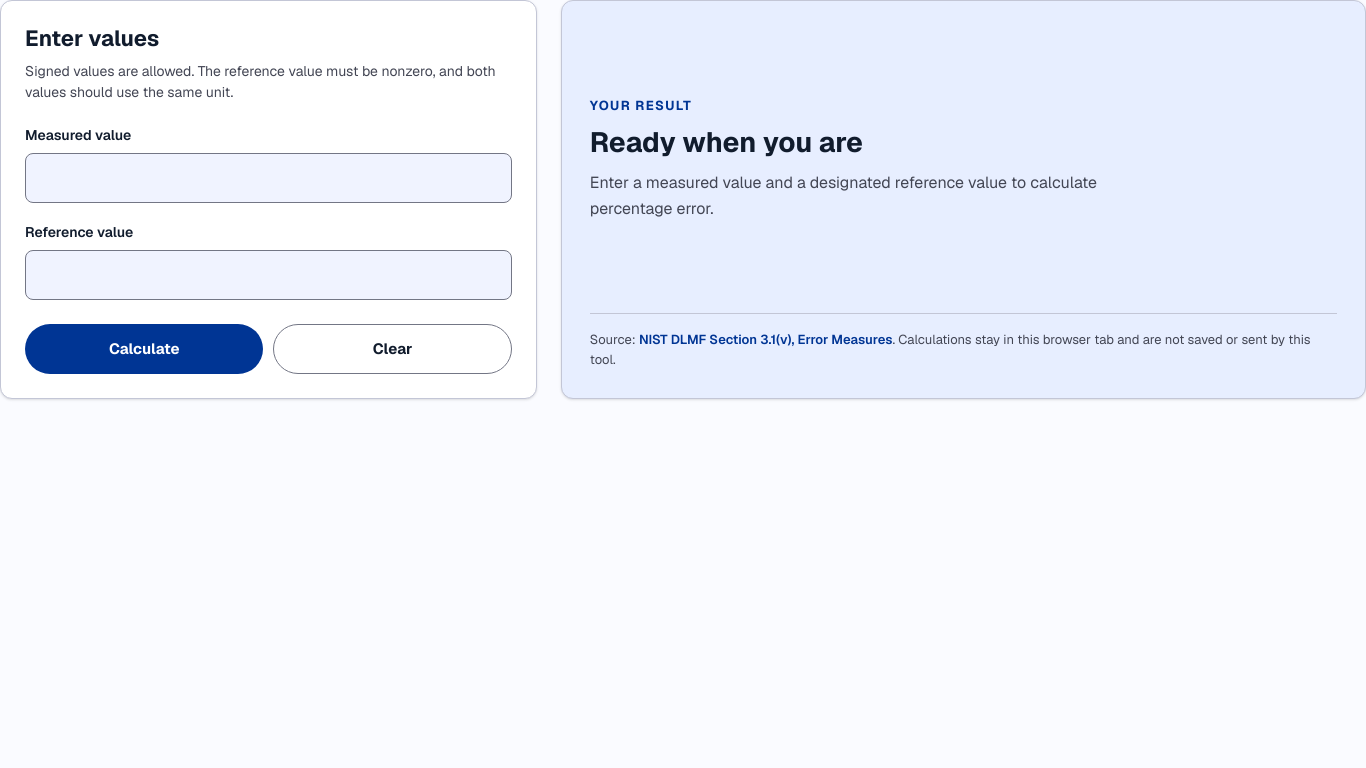
percentage family shared workspace › accepts signed Error inputs and rejects its zero reference
This screenshot has width=1366, height=768.
Type "-95" into the number field labelled "Measured value".
click(268, 178); type("-95")  # box [25,153,512,203]
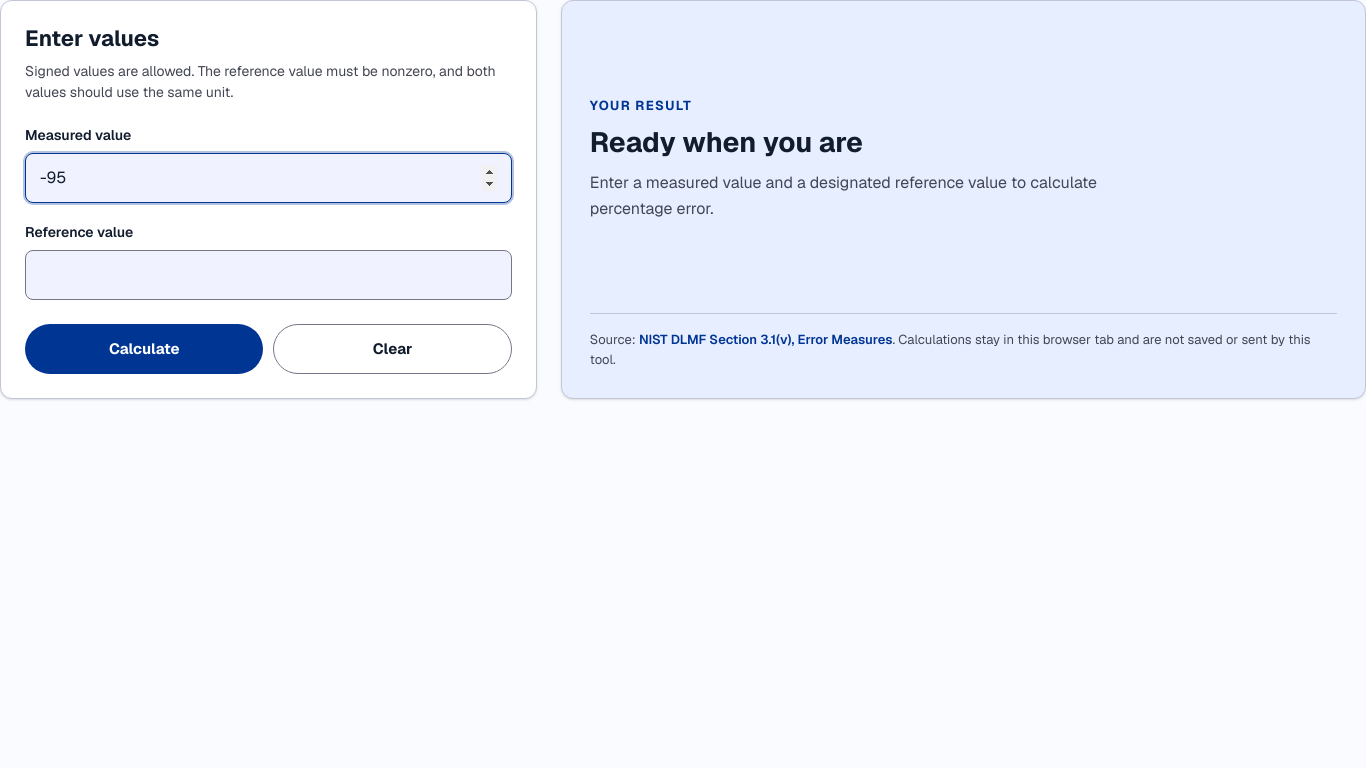
Type "-100" into the number field labelled "Reference value".
click(268, 275); type("-100")  # box [25,250,512,300]
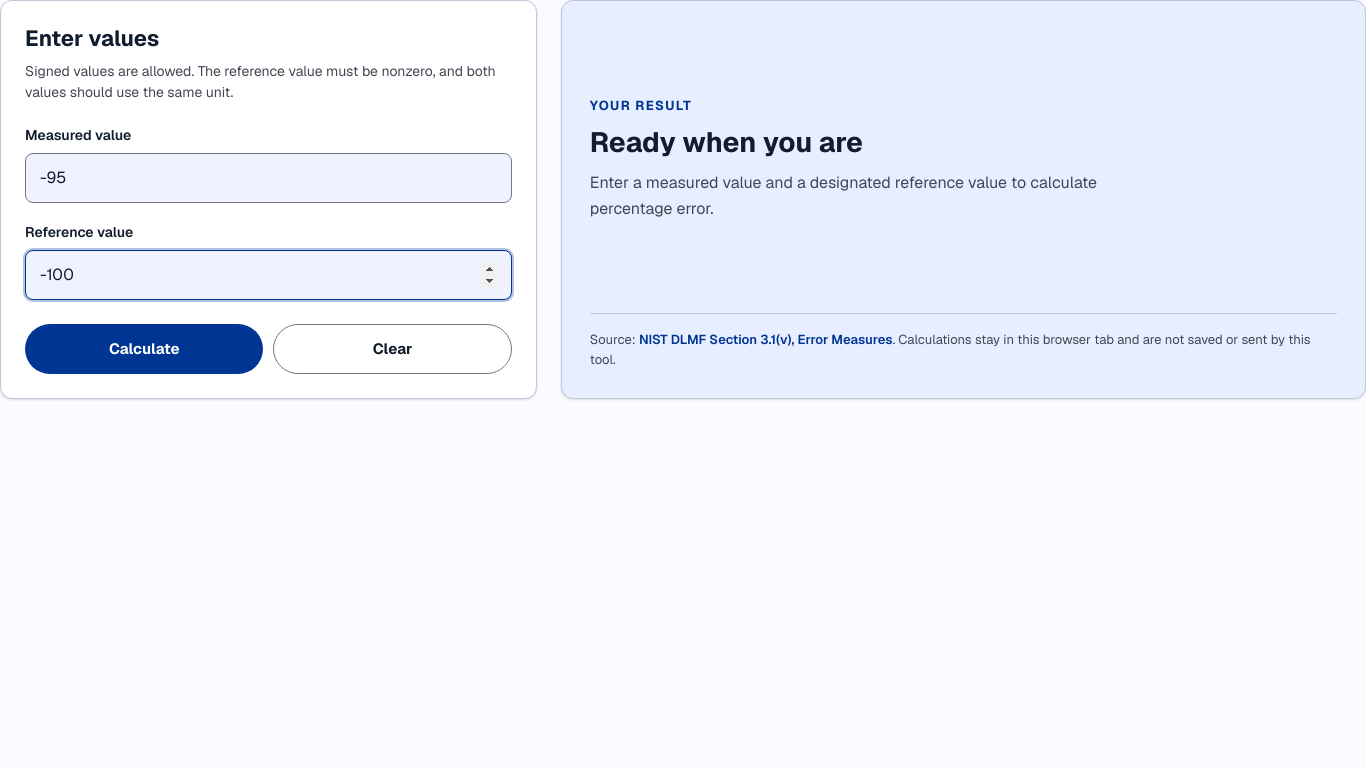
Click the button "Calculate".
click(144, 349)  # box [25,324,263,374]
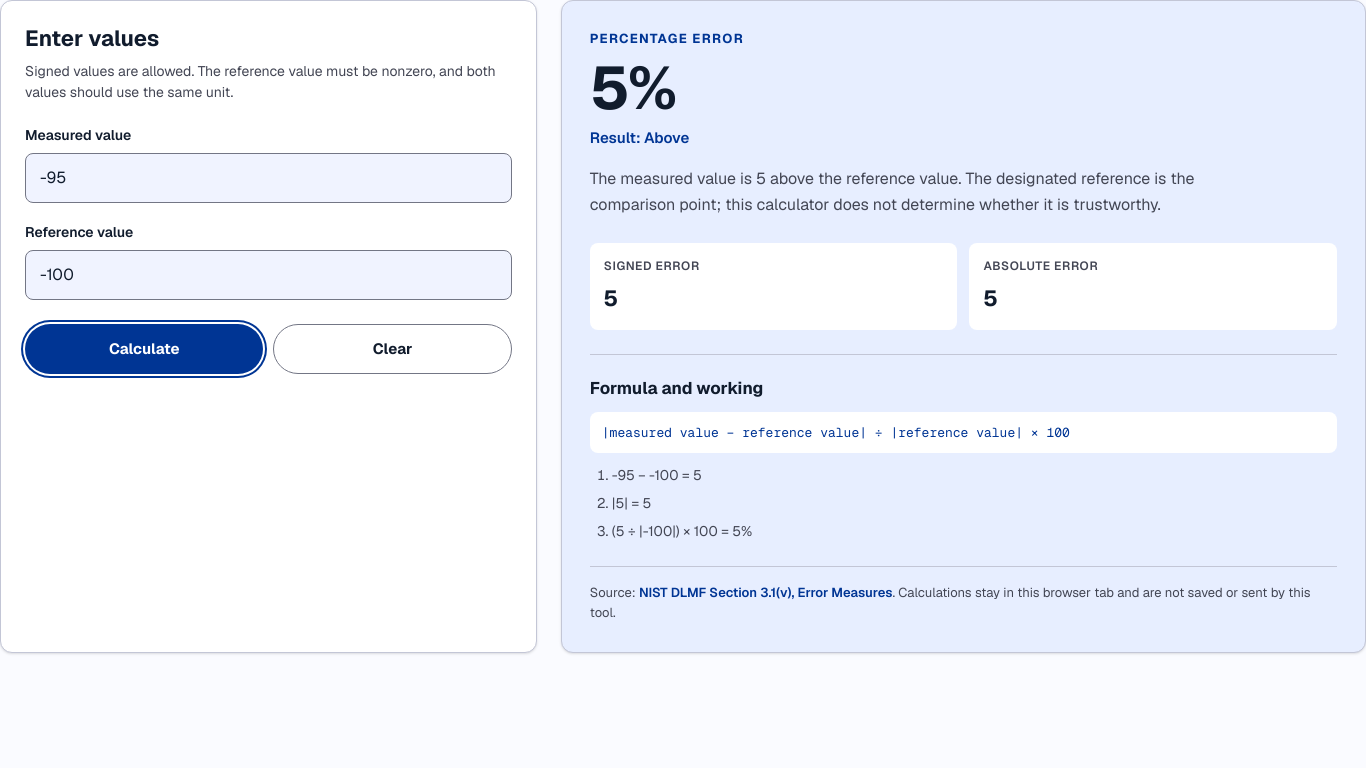
Result: the heading "5%" is shown at [590,49,675,127]
Result: the text "measured value is 5 above" is shown at [590,168,1194,215]
Replace the text in the number field labelled "Reference value" with "0" at (268, 275), box [25,250,512,300]
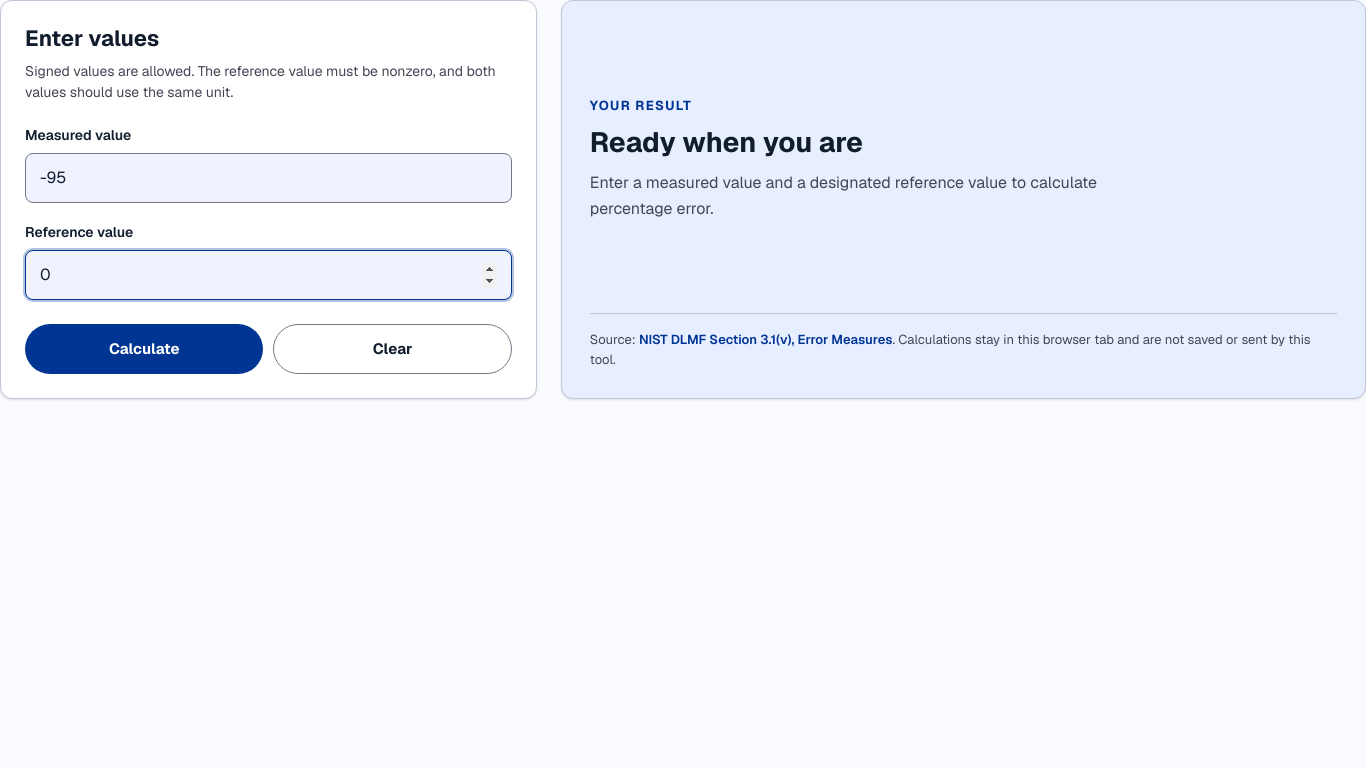
Click the button "Calculate".
click(144, 349)  # box [25,324,263,374]
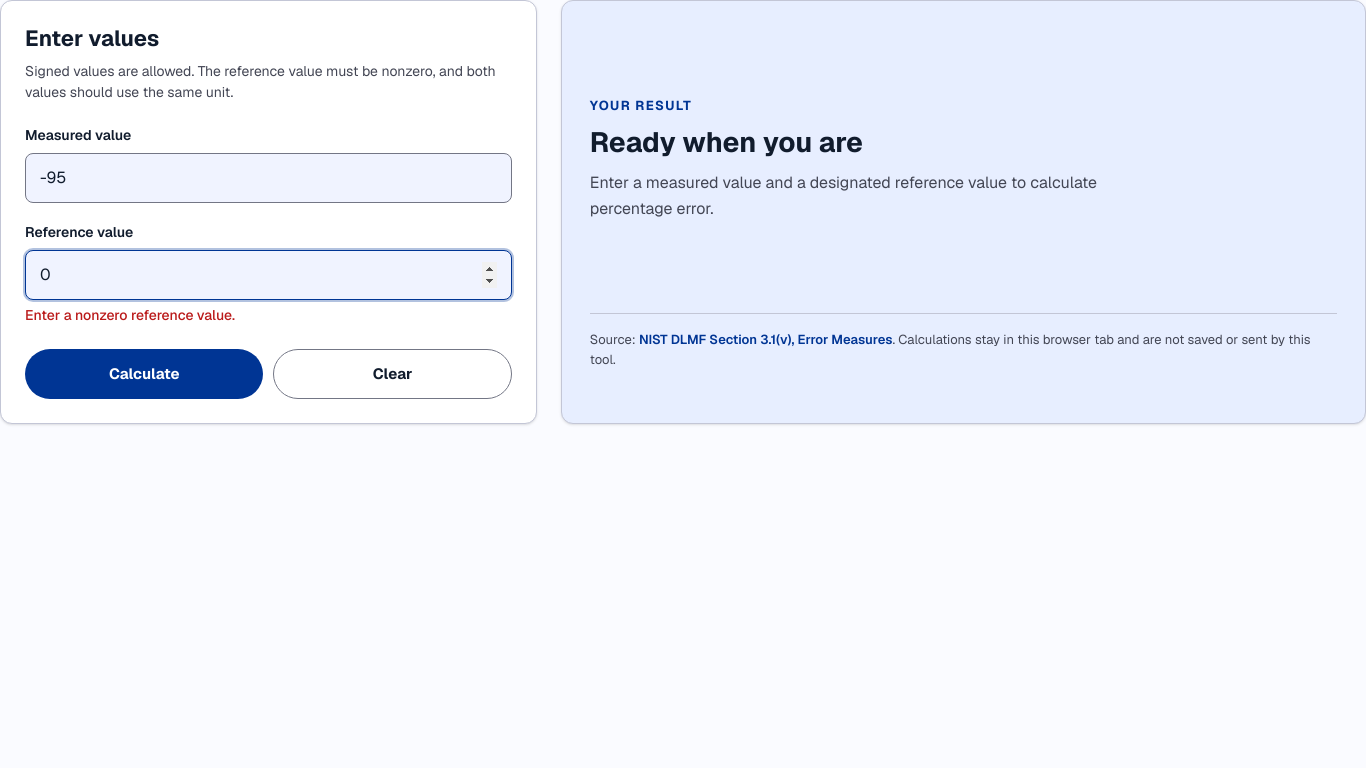
Result: the text "Enter a nonzero reference value." is shown at [25,306,235,324]
